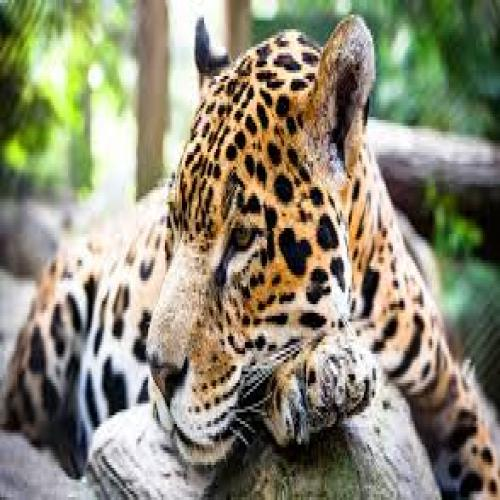jaguar_not-endangered: (36, 20, 378, 477)
